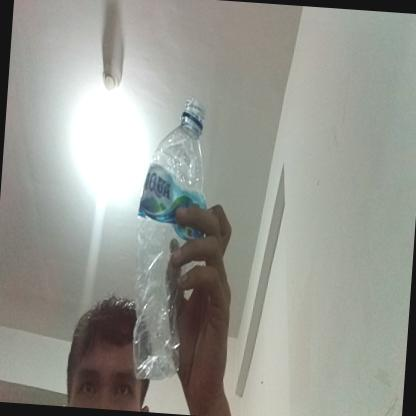plastic_bottles: (126, 95, 214, 384)
